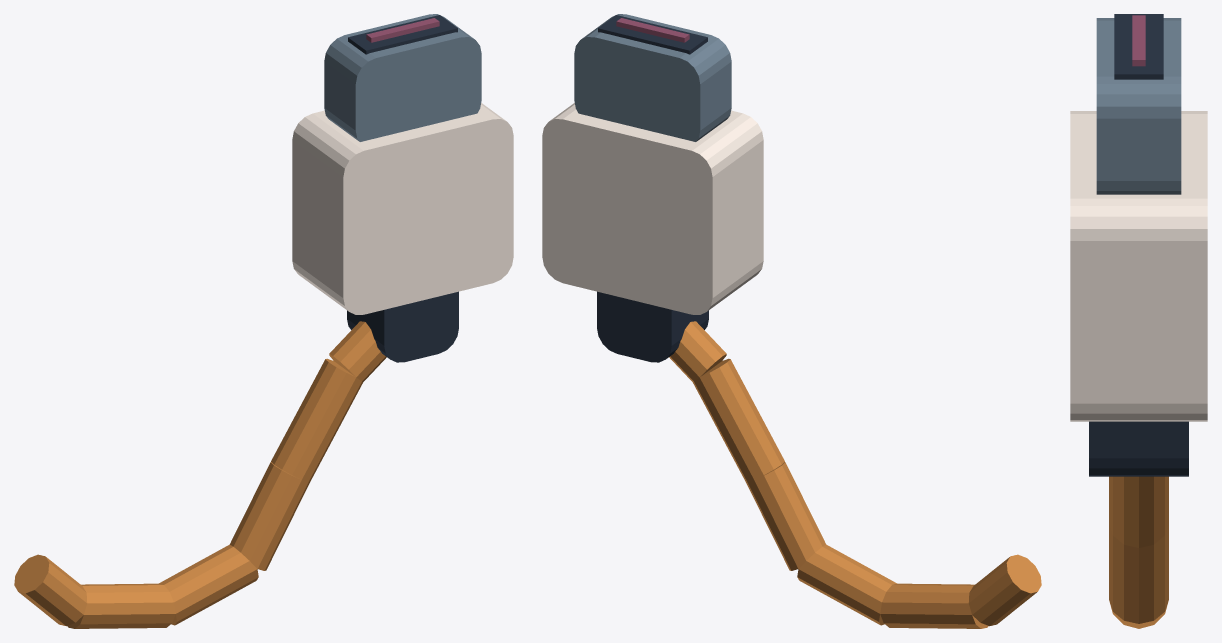
File: usbc.glb
3 renders of one model, left to right at view 1: azimuth 30°, elevation 25°; view 2: azimuth 150°, elevation 25°; view 3: azimuth 270°, elevation 25°, orthographic. The views are drawn at different scales.
Parts seen in each view (by area): view 1: plug sleeve, metal plug, rubber cable4, strain relief, rubber cable3, rubber cable1, rubber cable2, rubber cable0, rubber cable5, plug opening, contact tongue; view 2: plug sleeve, metal plug, rubber cable4, strain relief, rubber cable3, rubber cable1, rubber cable2, rubber cable0, rubber cable5, plug opening, contact tongue; view 3: plug sleeve, metal plug, strain relief, rubber cable3, rubber cable4, plug opening, contact tongue, rubber cable2.
Part boxes in pixels (<box>): plug sleeve: <box>292,103,513,314</box>; metal plug: <box>324,14,481,141</box>; rubber cable4: <box>271,358,362,481</box>; strain relief: <box>347,291,458,362</box>; rubber cable3: <box>230,462,309,570</box>; rubber cable1: <box>67,583,175,628</box>; rubber cable2: <box>159,544,258,625</box>; rubber cable0: <box>14,554,87,626</box>; rubber cable5: <box>329,321,386,381</box>; plug opening: <box>348,15,457,54</box>; contact tongue: <box>366,18,439,42</box>; plug sleeve: <box>542,103,763,314</box>; metal plug: <box>574,14,731,141</box>; rubber cable4: <box>693,358,784,481</box>; strain relief: <box>597,291,708,362</box>; rubber cable3: <box>746,462,825,570</box>; rubber cable1: <box>880,583,988,628</box>; rubber cable2: <box>797,544,896,625</box>; rubber cable0: <box>968,554,1041,626</box>; rubber cable5: <box>669,321,726,381</box>; plug opening: <box>598,15,707,54</box>; contact tongue: <box>616,18,689,42</box>; plug sleeve: <box>1070,111,1207,421</box>; metal plug: <box>1096,18,1181,194</box>; strain relief: <box>1089,421,1188,476</box>; rubber cable3: <box>1109,524,1168,623</box>; rubber cable4: <box>1109,476,1168,547</box>; plug opening: <box>1114,14,1163,79</box>; contact tongue: <box>1132,15,1145,66</box>; rubber cable2: <box>1109,602,1168,628</box>.
Size of the model in its own units: 1.38 by 1.51 by 0.26.
